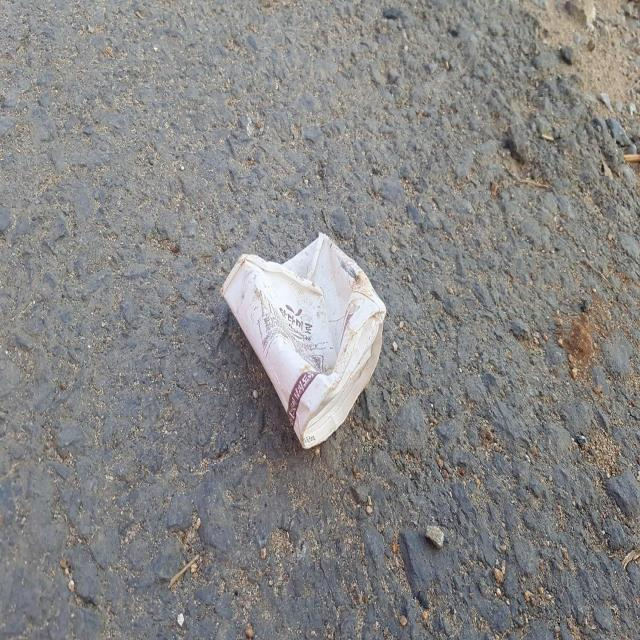paperpack: (221, 232, 386, 448)
